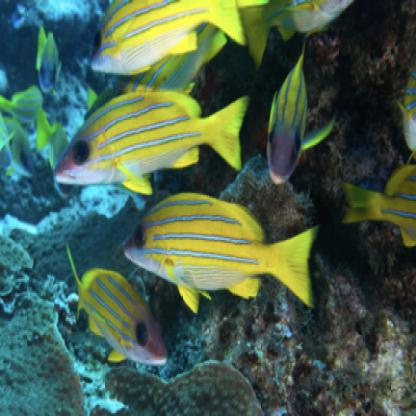Lutjanidae -Snappers-: (119, 183, 326, 313), (48, 83, 252, 199), (63, 241, 171, 370), (86, 1, 249, 78), (264, 48, 322, 202)
